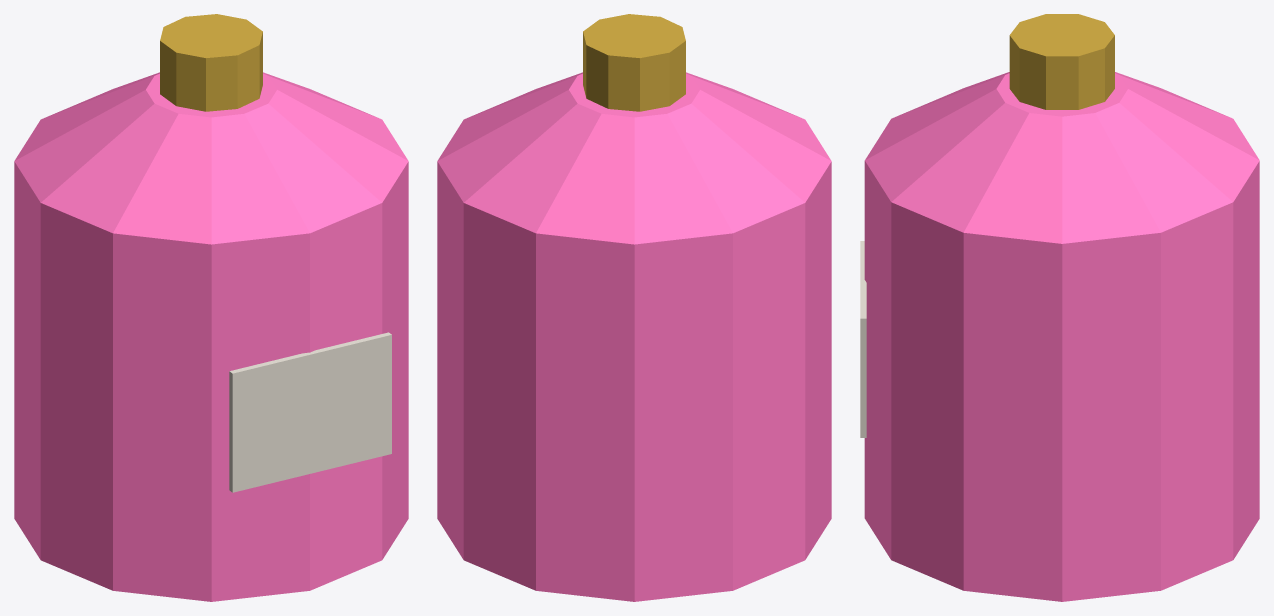
File: perfume_jug.glb
The picture shows the model from 3 angles, left to right: view 1: azimuth 30°, elevation 25°; view 2: azimuth 150°, elevation 25°; view 3: azimuth 270°, elevation 25°; orthographic projection.
Parts seen in each view (by area): view 1: jug_perfume_pink (×2), label_perfume_label, cap_perfume_gold; view 2: jug_perfume_pink (×2), cap_perfume_gold; view 3: jug_perfume_pink (×2), cap_perfume_gold, label_perfume_label.
Boxes of the visible parts, x1,y1,x2,y2 form: jug_perfume_pink (×2): (14, 72, 408, 601); label_perfume_label: (229, 332, 391, 492); cap_perfume_gold: (160, 14, 262, 111); jug_perfume_pink (×2): (437, 72, 831, 601); cap_perfume_gold: (583, 14, 685, 111); jug_perfume_pink (×2): (864, 72, 1259, 601); cap_perfume_gold: (1009, 14, 1114, 109); label_perfume_label: (860, 241, 866, 437).
Size of the model in its own units: 0.3 by 0.405 by 0.3035.
